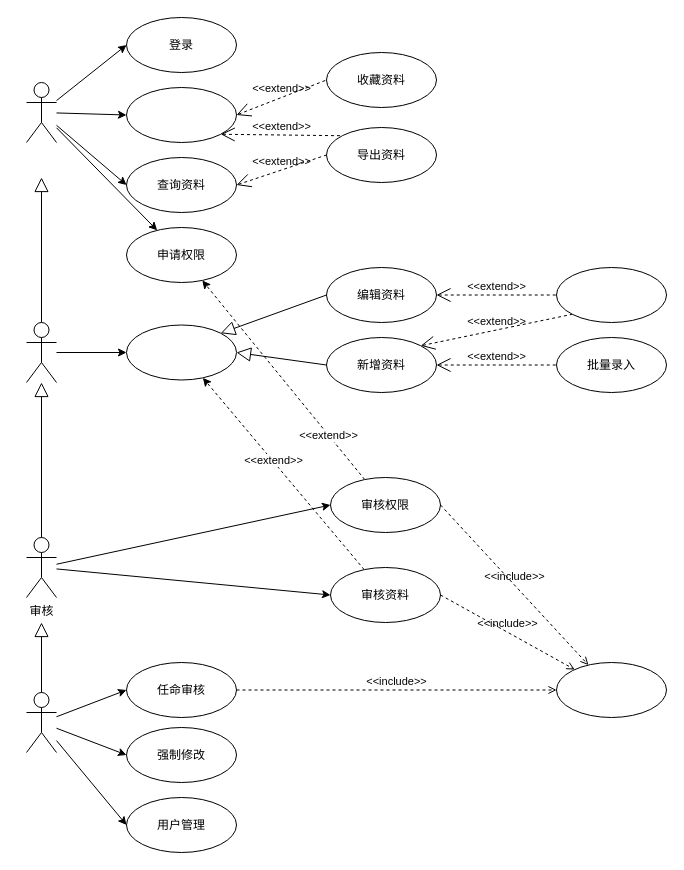
This 684x870 diagram has some shape labels left out. Each missing label, with the centre of its shape:
"一般用户" goes at point (41, 112).
"录入资料" goes at point (181, 352).
"权限用户" goes at point (41, 352).
"查询用户" goes at point (611, 690).
"浏览资料" goes at point (181, 114).
"管理员" goes at point (41, 722).
"资料处理" goes at point (611, 294).
